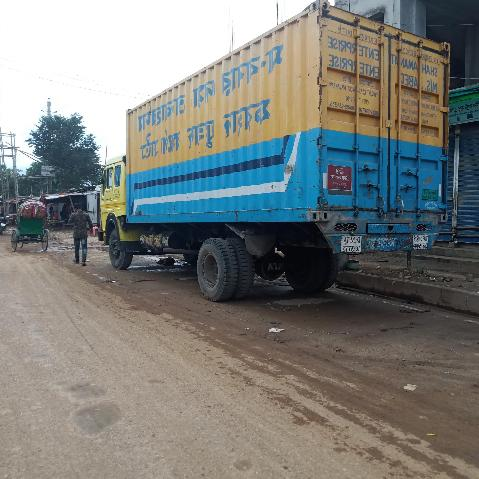truck: (90, 0, 460, 328)
